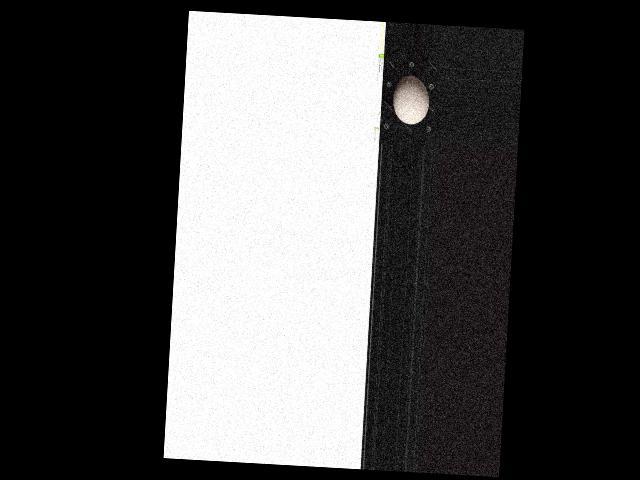egg: (391, 74, 430, 126)
